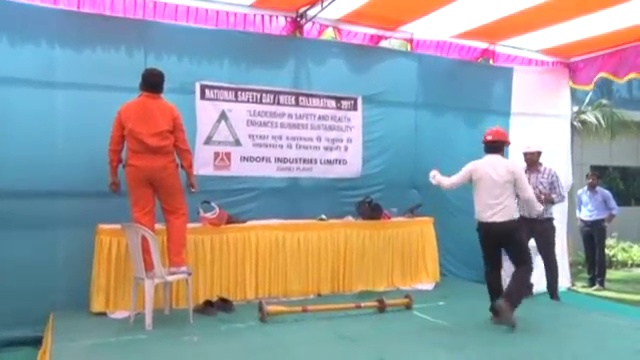helmet: (481, 123, 512, 147), (522, 138, 543, 156)
helmet_off: (137, 67, 165, 95), (585, 169, 601, 190)
helmet_on: (480, 124, 513, 159), (522, 138, 544, 174)
person: (427, 123, 544, 338), (108, 66, 197, 276), (518, 136, 565, 301), (574, 168, 622, 291)
